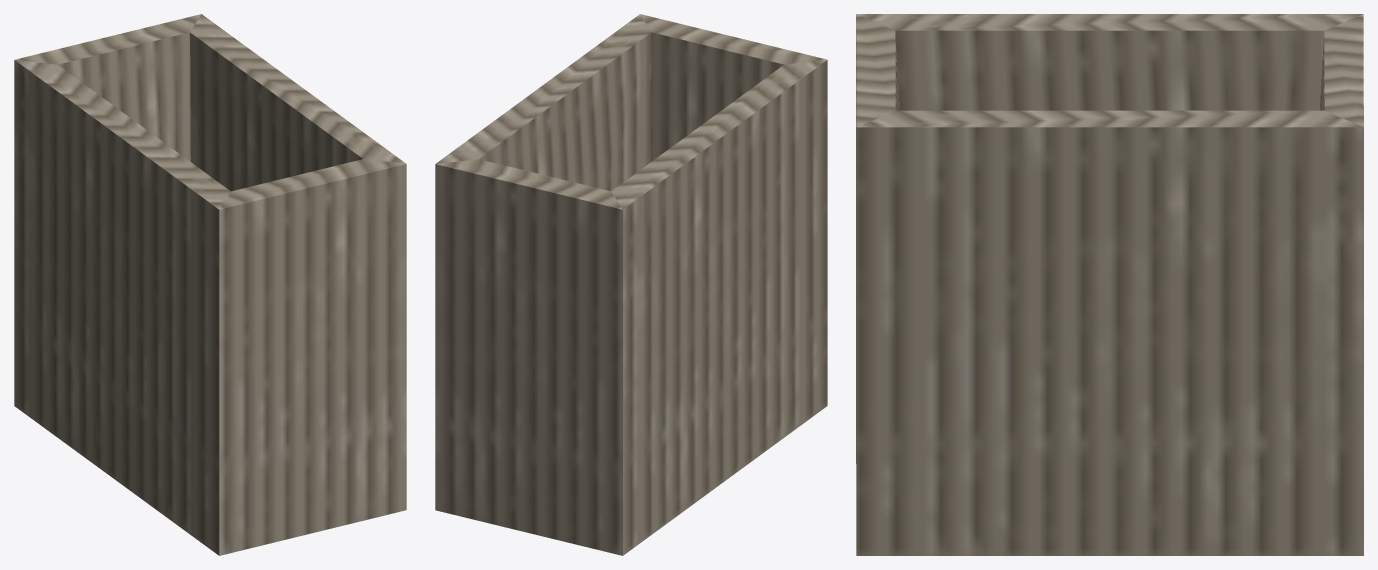
File: backpack_matting.obj
3 renders of one model, left to right at view 1: azimuth 30°, elevation 25°; view 2: azimuth 150°, elevation 25°; view 3: azimuth 270°, elevation 25°, orthographic. The views are drawn at different scales.
Visible parts, largest first — view 1: pPipe1; view 2: pPipe1; view 3: pPipe1.
Part boxes in pixels (left/top/right/bottom): pPipe1: left=14, top=14, right=406, bottom=555; pPipe1: left=435, top=14, right=827, bottom=555; pPipe1: left=856, top=14, right=1363, bottom=555.
Bounding box in the file's own units: 0.4823 × 0.8504 × 0.913.
